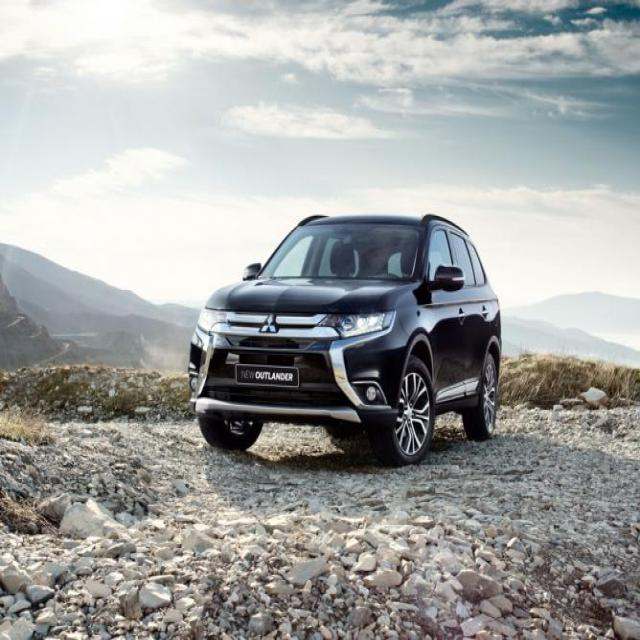light_vehicle: (188, 213, 502, 468)
